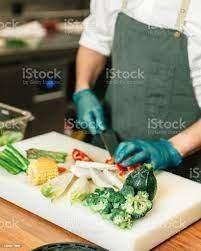apron: (110, 138, 186, 174), (71, 88, 109, 137)
